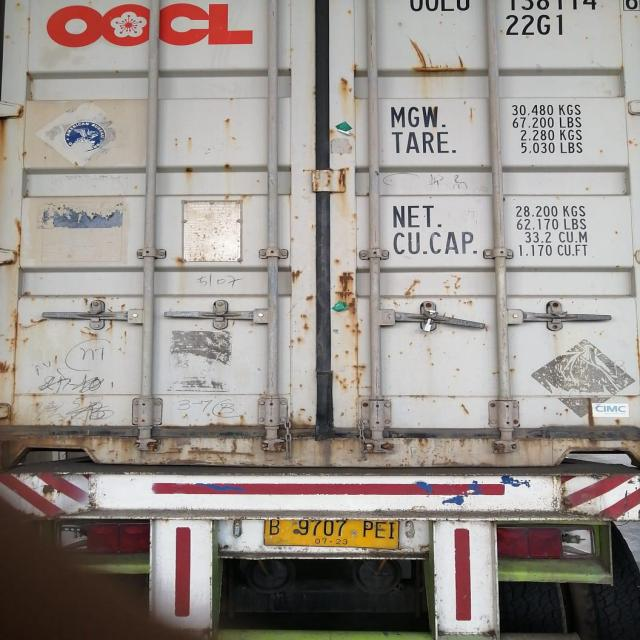seal: (416, 311, 443, 341)
